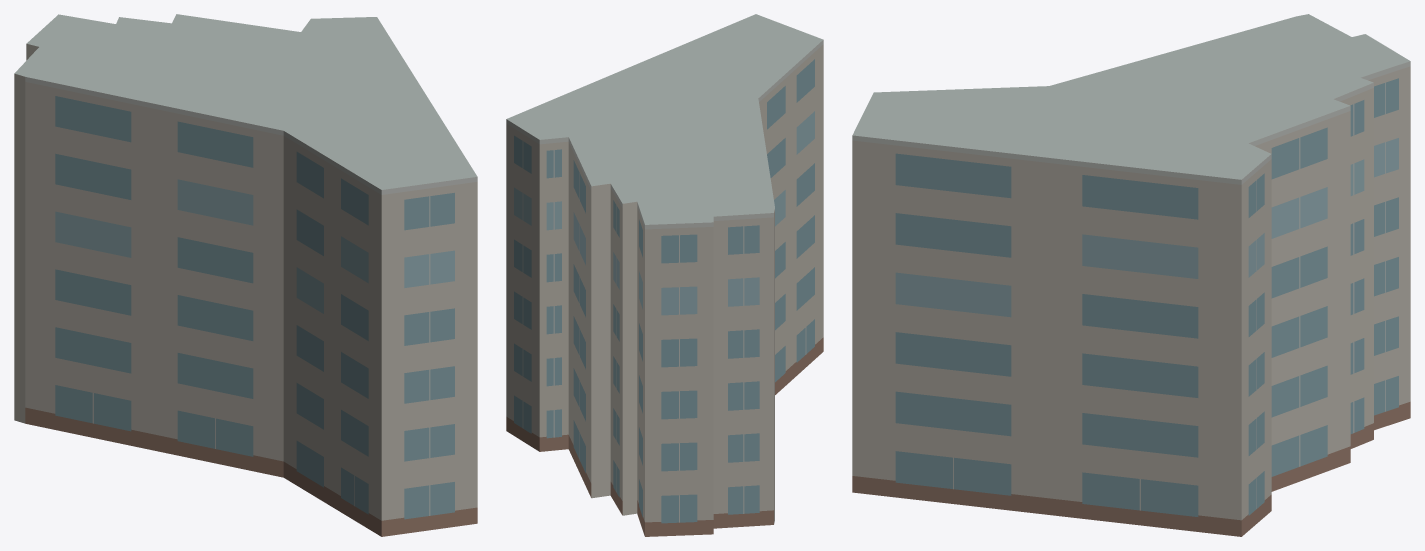
File: survey-upis-32874591.glb
The picture shows the model from 3 angles, left to right: view 1: azimuth 30°, elevation 25°; view 2: azimuth 150°, elevation 25°; view 3: azimuth 270°, elevation 25°; orthographic projection. The views are drawn at different scales.
Parts seen in each view (by area): view 1: survey-upis-32874591.tmp; view 2: survey-upis-32874591.tmp; view 3: survey-upis-32874591.tmp.
Part boxes in pixels (<box>): survey-upis-32874591.tmp: <box>14,14,477,536</box>; survey-upis-32874591.tmp: <box>506,14,823,536</box>; survey-upis-32874591.tmp: <box>852,14,1410,536</box>.
Size of the model in its own units: 16.99 by 17.05 by 24.17.
